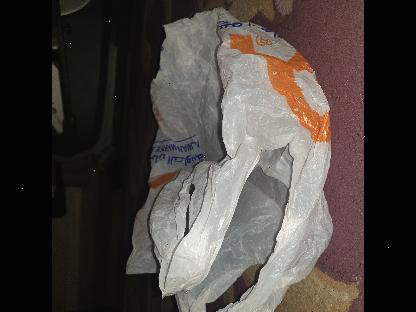Others: (125, 5, 335, 312)
